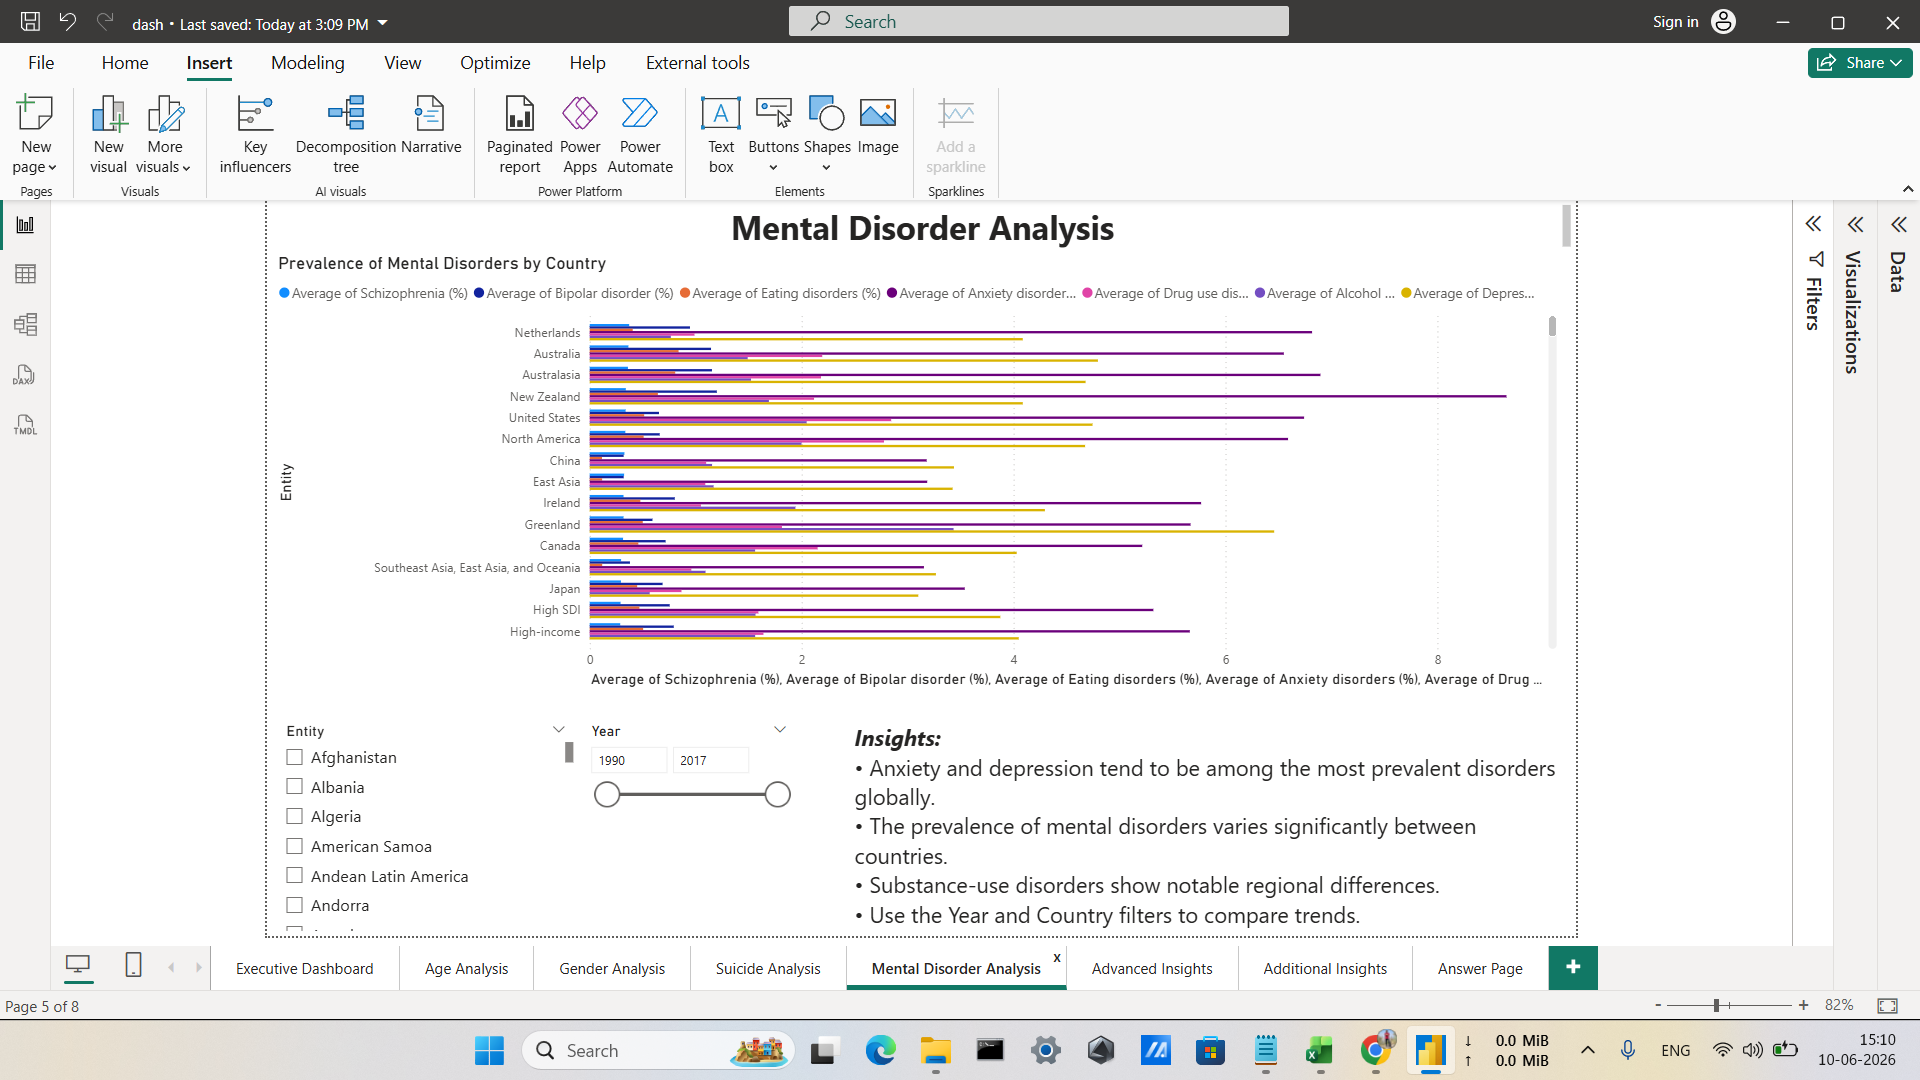

The page's visual inventory and layout, read from the dashboard file:
{"tool":"powerbi","page":{"name":"Mental Disorder Analysis","canvas":[1280,720],"ordinal":4},"visuals":[{"type":"textbox","box":[10,0,280,280],"z":0},{"type":"textbox","box":[9.8,0,1270.5,51.4],"z":1000},{"type":"clusteredBarChart","title":"Prevalence of Mental Disorders by Country","fields":{"Category":["prevalence-by-mental-and-substa.Entity"],"Y":["Avg(prevalence-by-mental-and-substa.Schizophrenia (%))","Avg(prevalence-by-mental-and-substa.Bipolar disorder (%))","Avg(prevalence-by-mental-and-substa.Eating disorders (%))","Avg(prevalence-by-mental-and-substa.Anxiety disorders (%))","Avg(prevalence-by-mental-and-substa.Drug use disorders (%))","Avg(prevalence-by-mental-and-substa.Alcohol use disorders (%))","Avg(prevalence-by-mental-and-substa.Depression (%))"]},"box":[6.1,51.4,1260.7,430.4],"z":2000},{"type":"slicer","fields":{"Values":["prevalence-by-mental-and-substa.Entity"]},"box":[6.1,506.3,298.4,214],"z":3000},{"type":"slicer","fields":{"Values":["prevalence-by-mental-and-substa.Year"]},"box":[304.5,506.3,216.4,214],"z":4000},{"type":"textbox","box":[569.8,506.3,710.5,214],"z":5000}]}

Visuals, with their boxes on the page's 1280x720 design canvas (x1, y1, x2, y2). These are canvas units, not pixel positions in the 1920x1080 screenshot, which may show the page scaled, cropped or inside an application window:
textbox: [left=10, top=0, right=290, bottom=280]
textbox: [left=10, top=0, right=1280, bottom=51]
"Prevalence of Mental Disorders by Country" clusteredBarChart: [left=6, top=51, right=1267, bottom=482]
slicer - prevalence-by-mental-and-substa.Entity: [left=6, top=506, right=304, bottom=720]
slicer - prevalence-by-mental-and-substa.Year: [left=304, top=506, right=521, bottom=720]
textbox: [left=570, top=506, right=1280, bottom=720]
